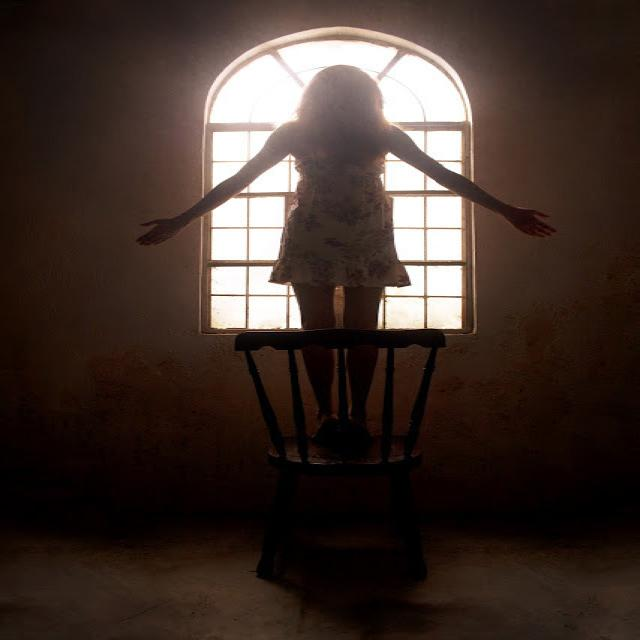People: (137, 49, 576, 452)
chair: (208, 299, 479, 610)
